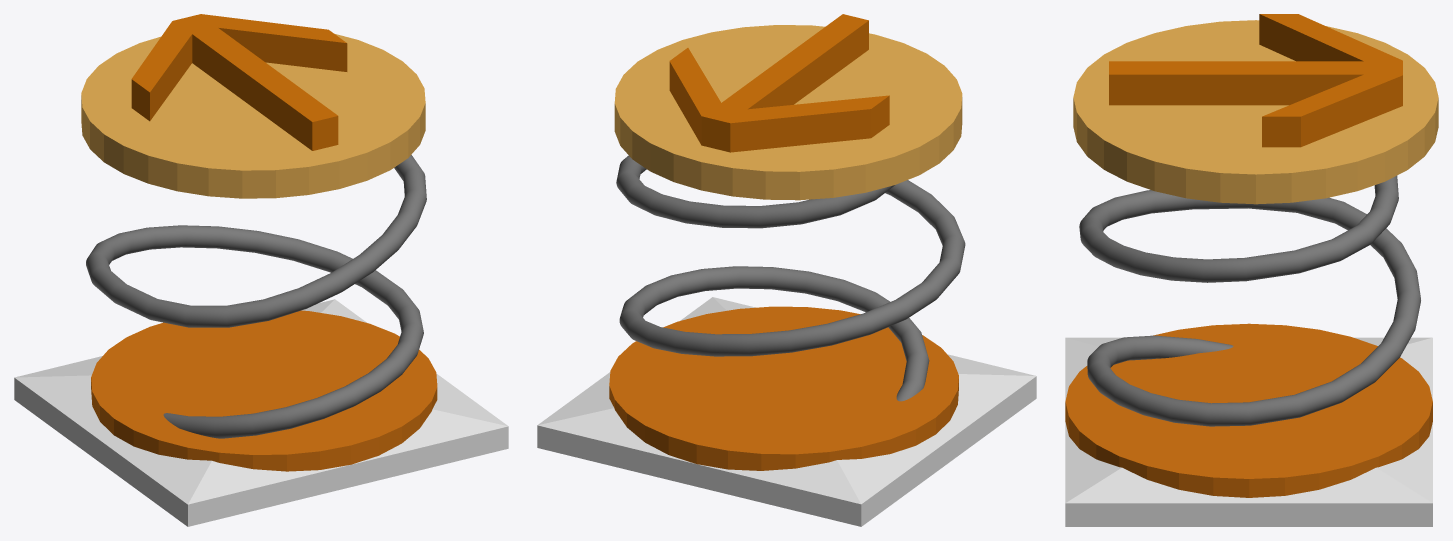
Rendered from muelle.fbx.
3 views of the same model, side by side, from view 1: azimuth 30°, elevation 25°; view 2: azimuth 150°, elevation 25°; view 3: azimuth 270°, elevation 25° (orthographic). The views are drawn at different scales.
Parts seen in each view (by area): view 1: Cylinder, Cylinder.001, Cube, BezierCurve, Cube.001; view 2: Cylinder, Cylinder.001, BezierCurve, Cube, Cube.001; view 3: Cylinder, Cylinder.001, BezierCurve, Cube.001, Cube.
Boxes of the visible parts, x1,y1,x2,y2 form: Cylinder: (91,310,437,471); Cylinder.001: (81,33,425,198); Cube: (14,299,508,526); BezierCurve: (86,155,426,438); Cube.001: (131,14,347,150); Cylinder: (609,306,958,470); Cylinder.001: (614,25,962,200); BezierCurve: (616,155,965,401); Cube: (537,297,1036,526); Cube.001: (669,14,889,152); Cylinder: (1065,323,1432,497); Cylinder.001: (1073,20,1438,204); BezierCurve: (1079,175,1420,426); Cube.001: (1109,14,1402,147); Cube: (1065,337,1432,526).
Bounding box in the file's own units: 215 × 227 × 204.
